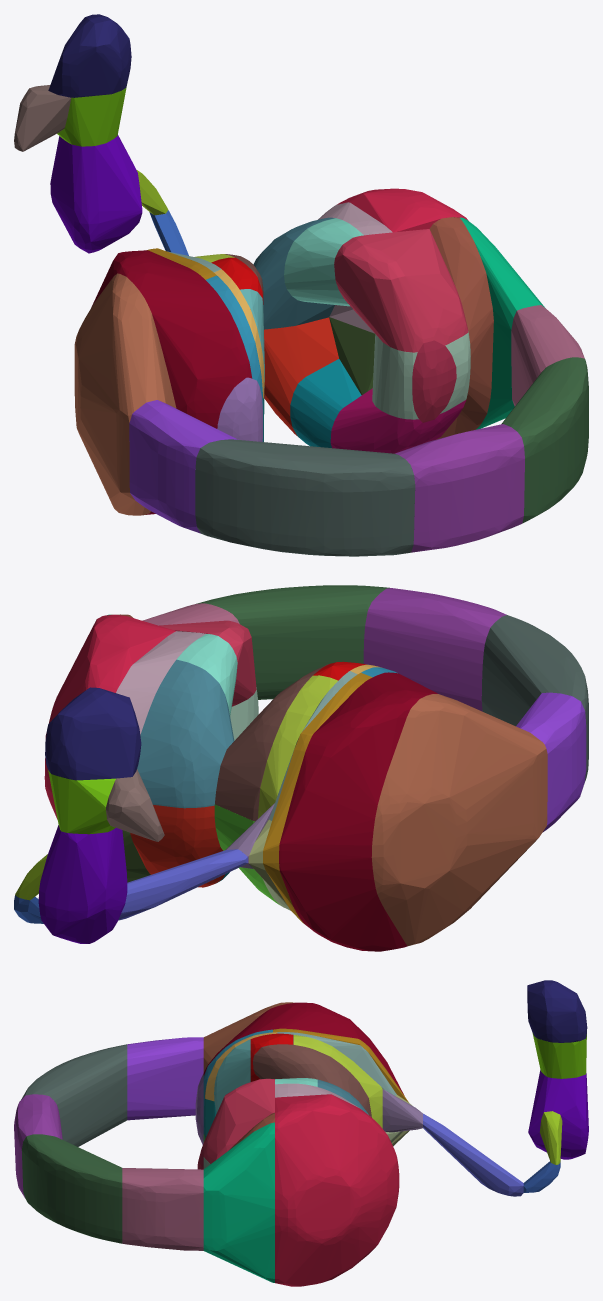
Rendered from coacd_merged.obj.
3 renders of one model, top to bottom at view 1: azimuth 30°, elevation 25°; view 2: azimuth 150°, elevation 25°; view 3: azimuth 270°, elevation 25°, orthographic. The views are drawn at different scales.
Visible parts, largest first — view 1: geometry_11, geometry_15, geometry_20, geometry_4, geometry_22, geometry_3, geometry_1, geometry_10, geometry_19, geometry_2, geometry_18, geometry_28 (+19 smaller); view 2: geometry_15, geometry_20, geometry_3, geometry_4, geometry_31, geometry_1, geometry_11, geometry_2, geometry_21, geometry_10, geometry_16, geometry_28 (+18 smaller); view 3: geometry_21, geometry_18, geometry_3, geometry_8, geometry_11, geometry_10, geometry_1, geometry_16, geometry_22, geometry_2, geometry_20, geometry_0 (+16 smaller).
Boxes of the visible parts, <box> form: geometry_11: <box>195,439,415,556</box>; geometry_15: <box>74,273,176,515</box>; geometry_20: <box>91,250,252,514</box>; geometry_4: <box>395,424,524,552</box>; geometry_22: <box>334,229,468,352</box>; geometry_3: <box>501,357,588,523</box>; geometry_1: <box>50,134,142,253</box>; geometry_10: <box>129,400,238,533</box>; geometry_19: <box>429,217,493,439</box>; geometry_2: <box>48,14,131,97</box>; geometry_18: <box>460,217,545,429</box>; geometry_28: <box>264,317,338,436</box>; geometry_15: <box>371,694,547,945</box>; geometry_20: <box>279,672,437,951</box>; geometry_3: <box>196,585,389,699</box>; geometry_4: <box>363,588,506,711</box>; geometry_31: <box>137,659,234,808</box>; geometry_1: <box>38,825,127,943</box>; geometry_11: <box>481,615,588,782</box>; geometry_2: <box>45,687,141,780</box>; geometry_21: <box>44,614,176,819</box>; geometry_10: <box>516,692,586,832</box>; geometry_16: <box>215,664,328,821</box>; geometry_28: <box>130,805,224,887</box>; geometry_21: <box>275,1094,399,1286</box>; geometry_18: <box>203,1122,274,1282</box>; geometry_3: <box>21,1134,122,1243</box>; geometry_8: <box>122,1168,203,1250</box>; geometry_11: <box>21,1044,127,1146</box>; geometry_10: <box>127,1037,203,1120</box>; geometry_1: <box>528,1070,588,1159</box>; geometry_16: <box>253,1044,371,1117</box>; geometry_22: <box>203,1078,274,1163</box>; geometry_2: <box>527,980,587,1042</box>; geometry_20: <box>203,1002,404,1095</box>; geometry_0: <box>423,1113,523,1196</box>.
Size of the model in its own units: 0.1843 by 0.1394 by 0.2945.
